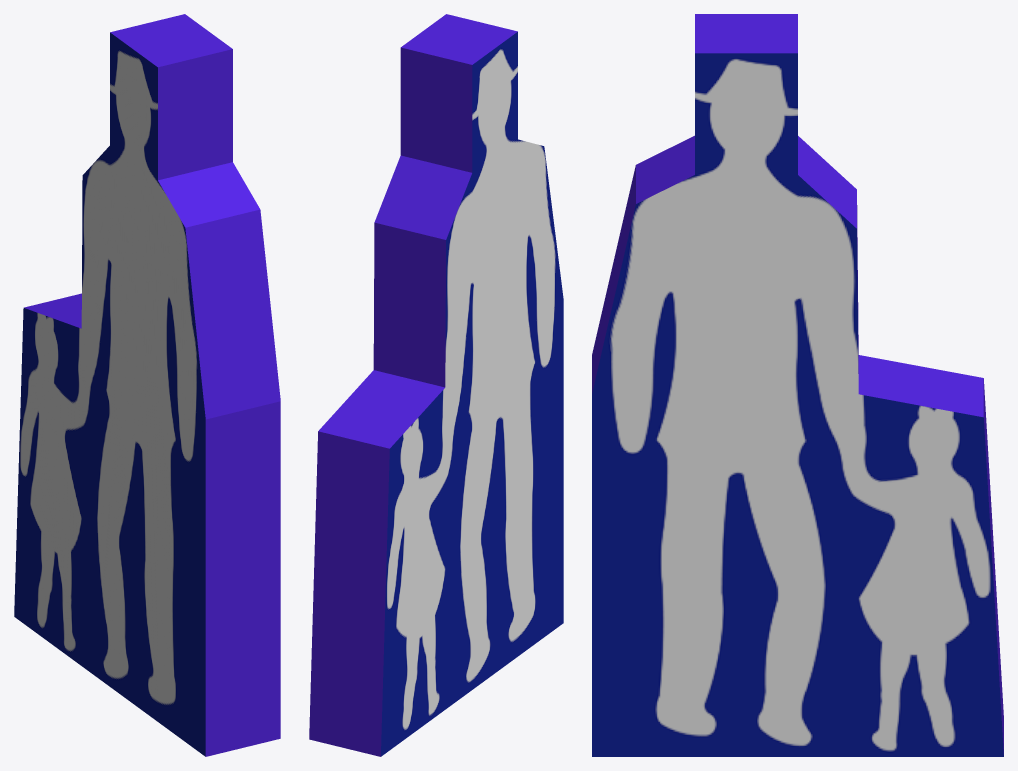
Rendered from 歩行者.fbx.
3 views of the same model, side by side, from view 1: azimuth 30°, elevation 25°; view 2: azimuth 150°, elevation 25°; view 3: azimuth 270°, elevation 25° (orthographic). The views are drawn at different scales.
Visible parts, largest first — view 1: ill-tsi_325-3; view 2: ill-tsi_325-3; view 3: ill-tsi_325-3.
Boxes of the visible parts, box(x1,y1,x2,y2) form: ill-tsi_325-3: box(14, 14, 280, 756); ill-tsi_325-3: box(309, 14, 563, 756); ill-tsi_325-3: box(592, 14, 1003, 756).
Bounding box in the file's own units: 12 × 100 × 53.06.
